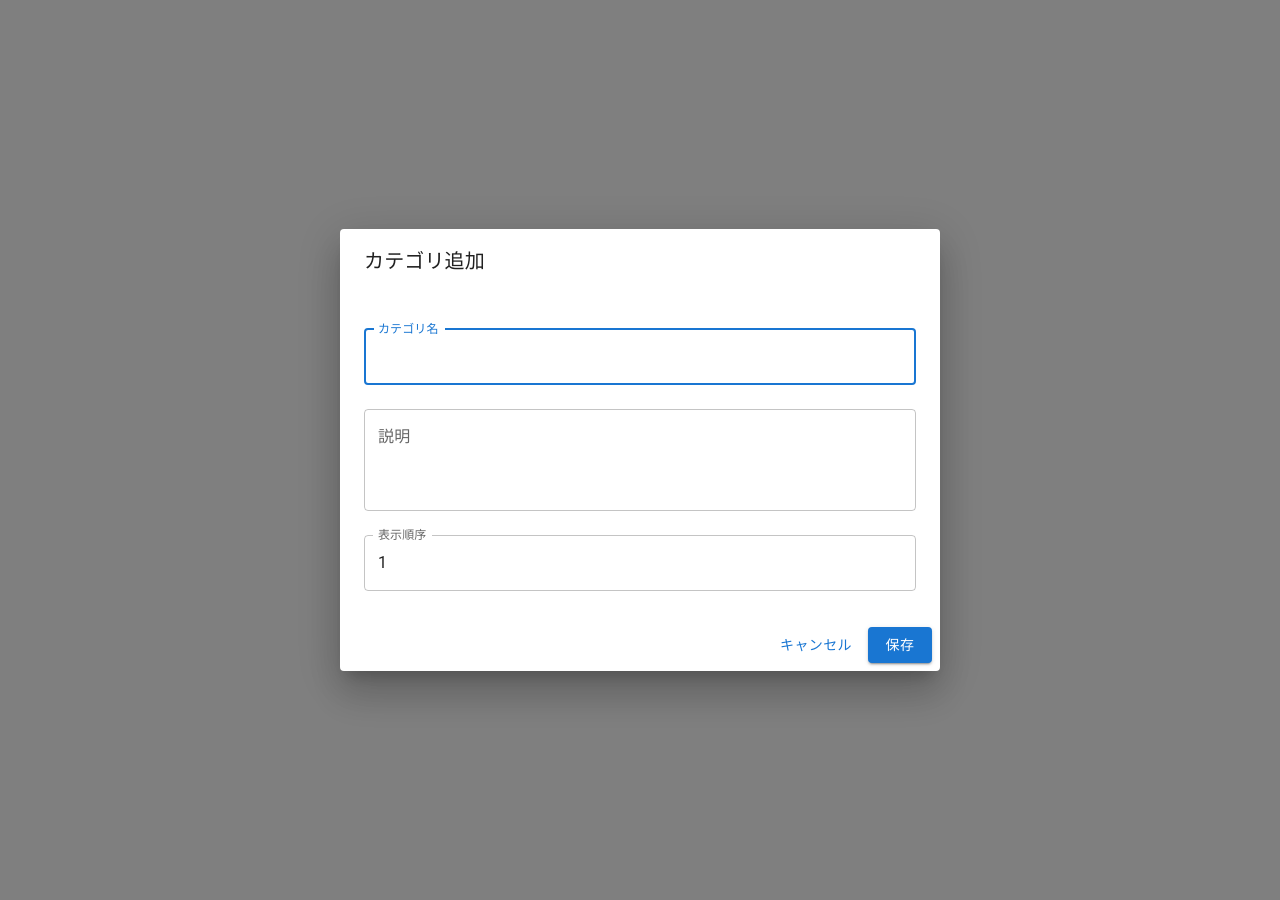
Test: CategoryForm › should validate required fields
This screenshot has width=1280, height=900.
Click the button "保存" at [900, 645], box [868, 627, 932, 663]
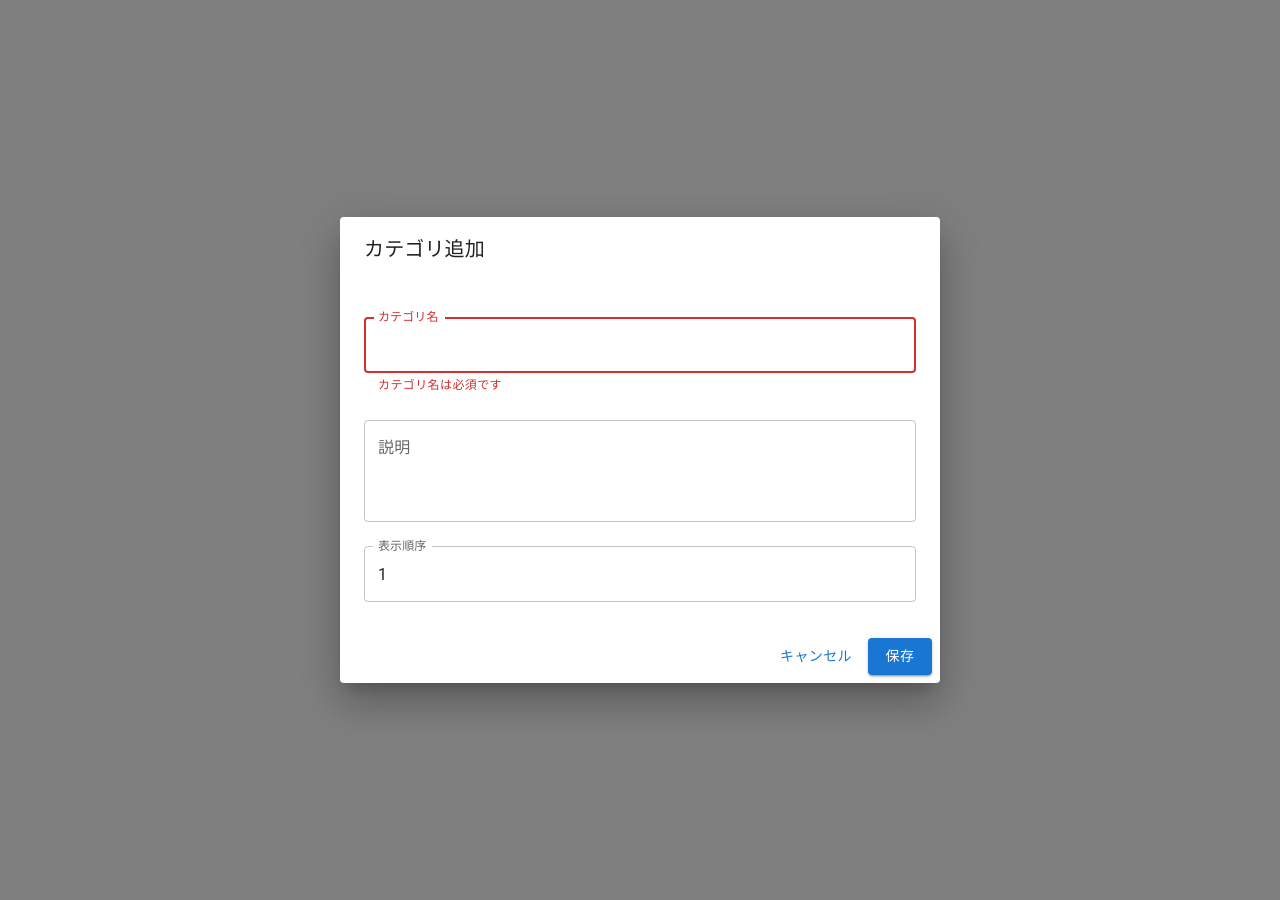
Check: the text "カテゴリ名は必須です" is shown, box [378, 378, 502, 392]
